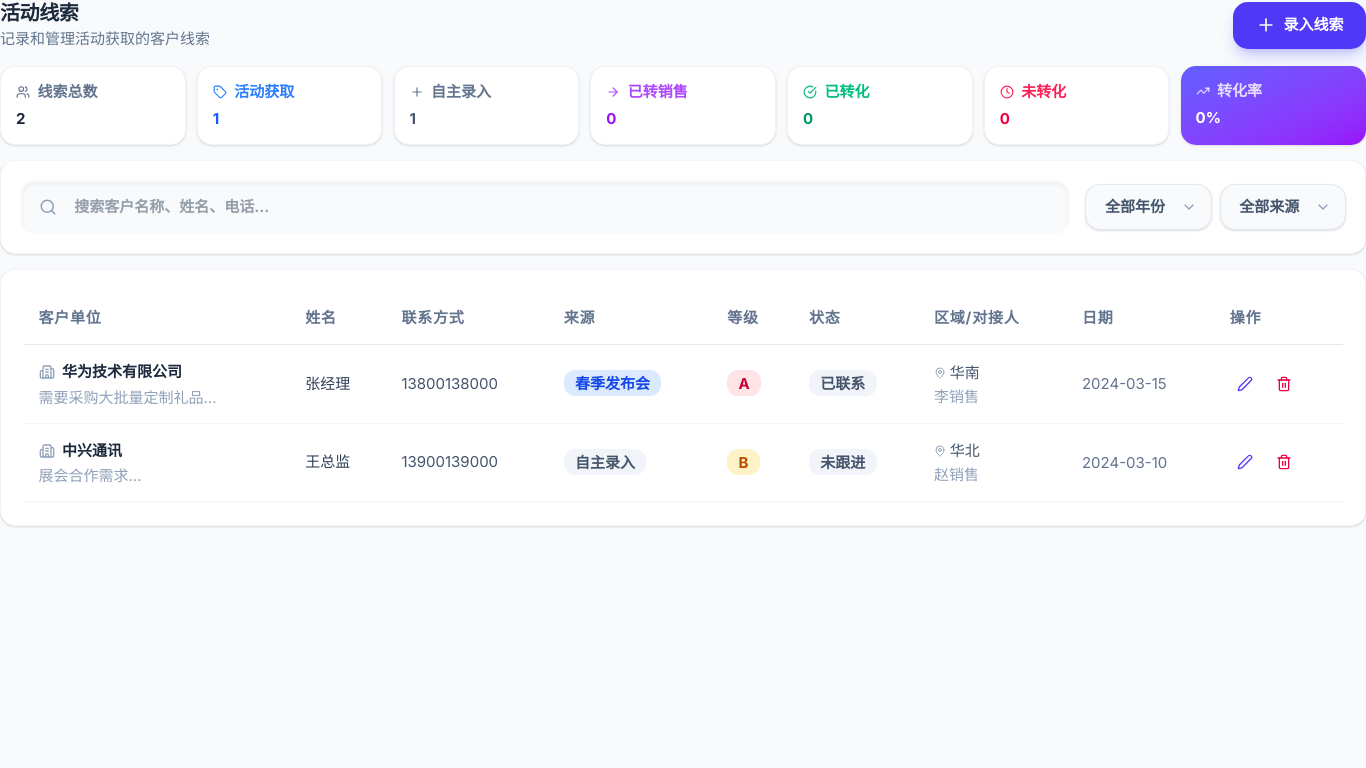
it: 商机管理页面交互测试 › 编辑按钮交互 › 点击编辑应打开编辑弹窗
Step 1. Click the button named "编辑" in the row of "华为技术有限公司" → [1245, 384], box [1230,368,1261,399]
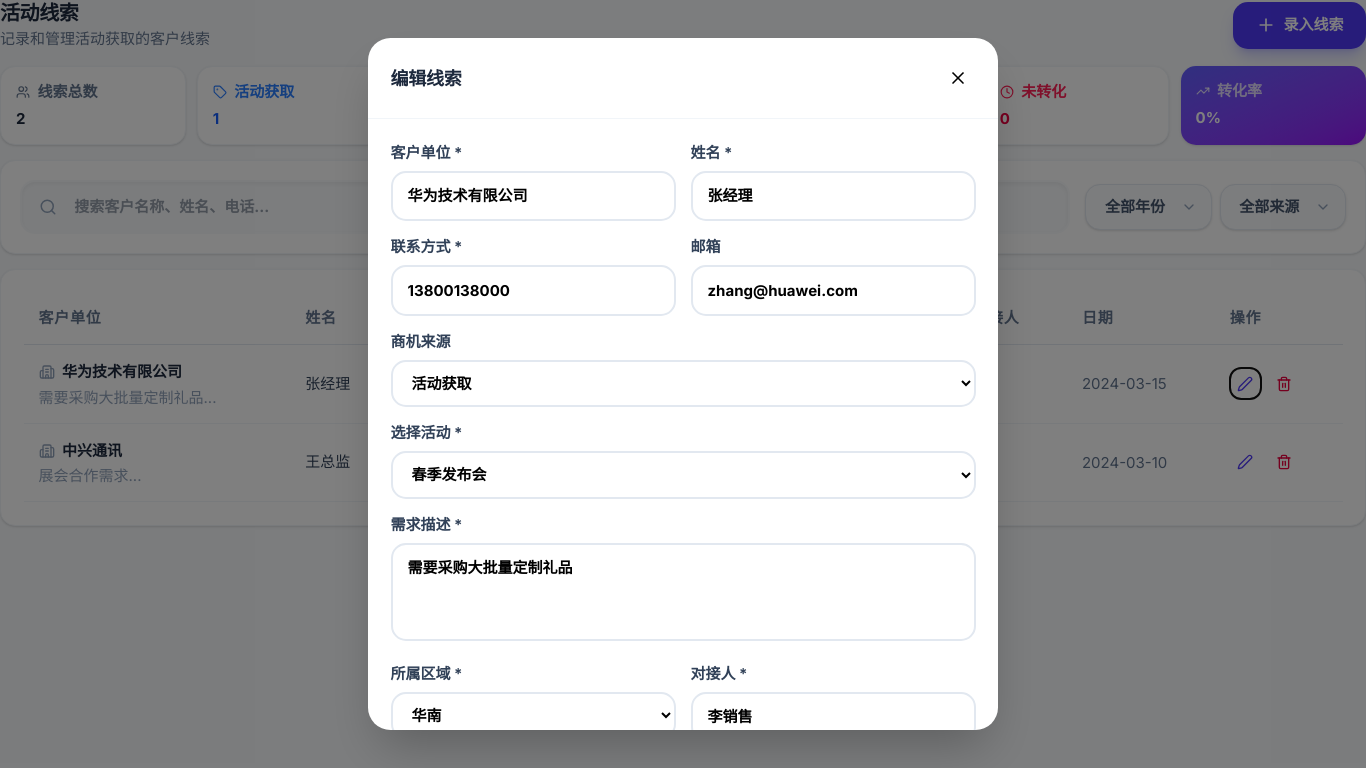
expect the heading "编辑线索" is shown: met, box [390,66,461,91]
